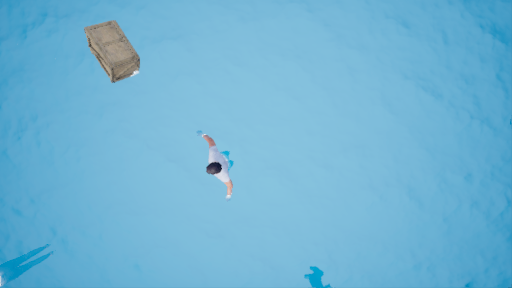person: (190, 128, 250, 201)
